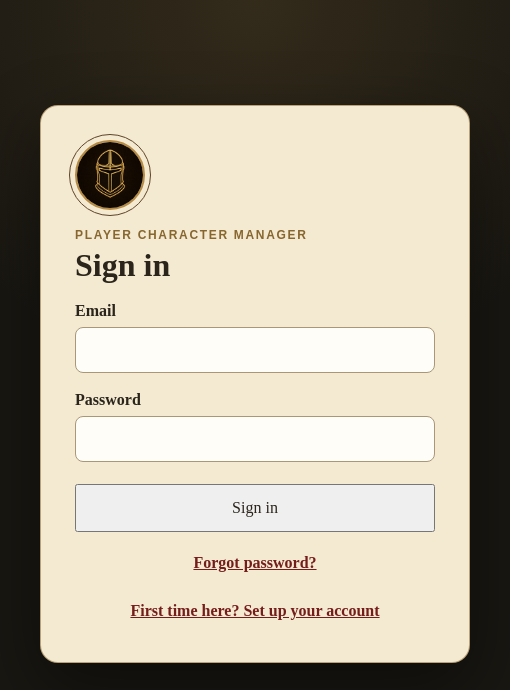
Test case: does not fetch auth.options or send a player ID from the D1 login page
Type "player@example.test" into the field labelled "Email".
click(255, 350); type("player@example.test")  # box [75, 327, 435, 373]
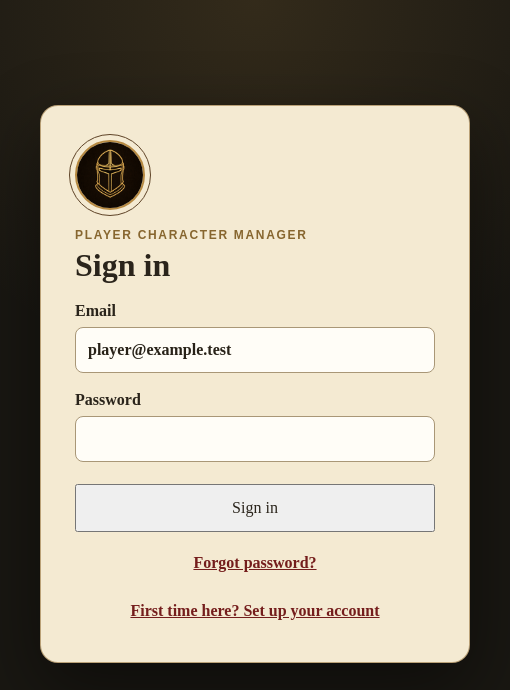
Type "wrong" into the password field labelled "Password".
click(255, 439); type("wrong")  # box [75, 416, 435, 462]
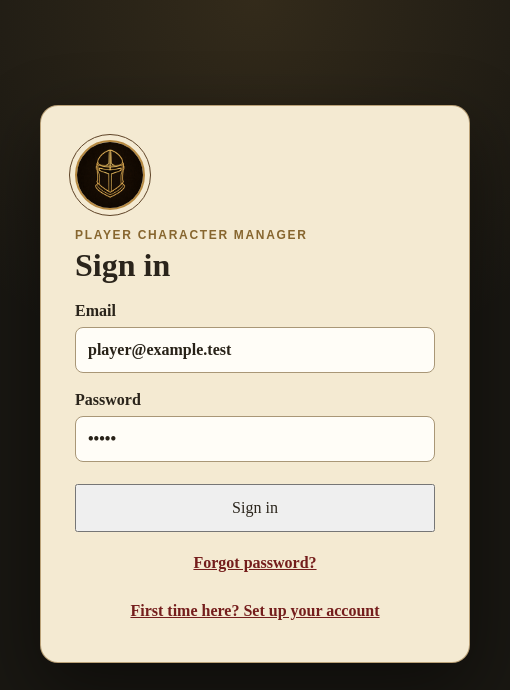
Click the button "Sign in".
click(255, 508)  # box [75, 484, 435, 532]
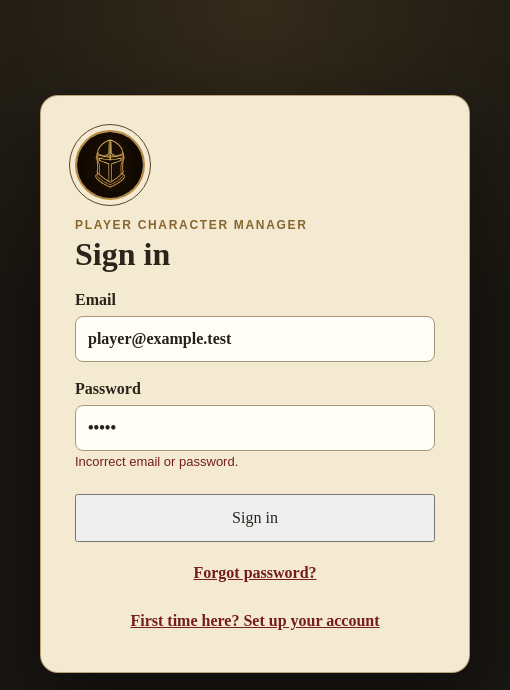
Now the text "Incorrect email or password." is shown, box [75, 454, 238, 469]
